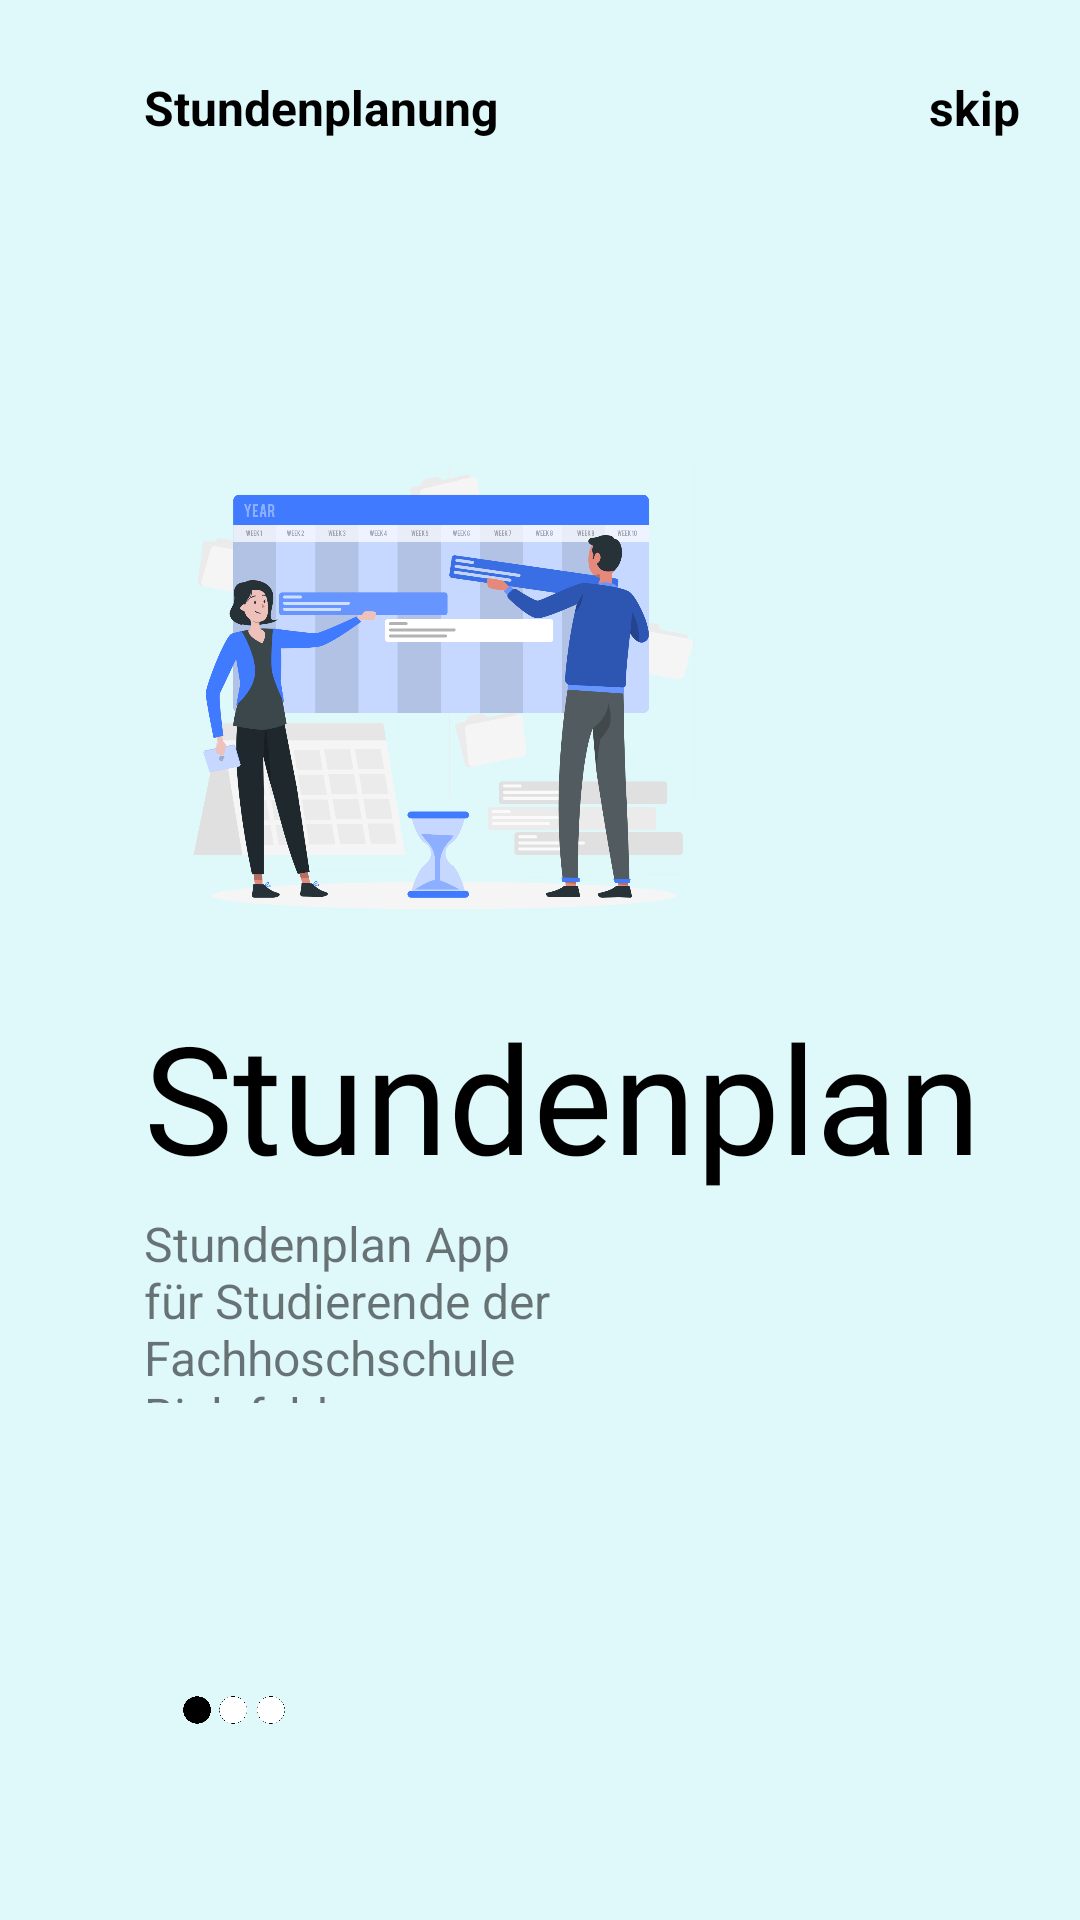

Where to tap for icons on this 1080x1920 app screen, as point (x, y):
tab: point (234, 1710)
